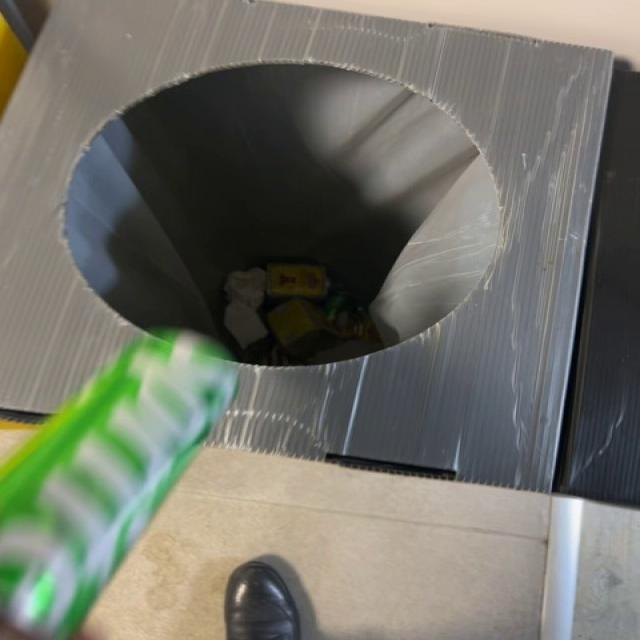bin: (3, 0, 612, 490)
metal: (1, 331, 237, 640)
